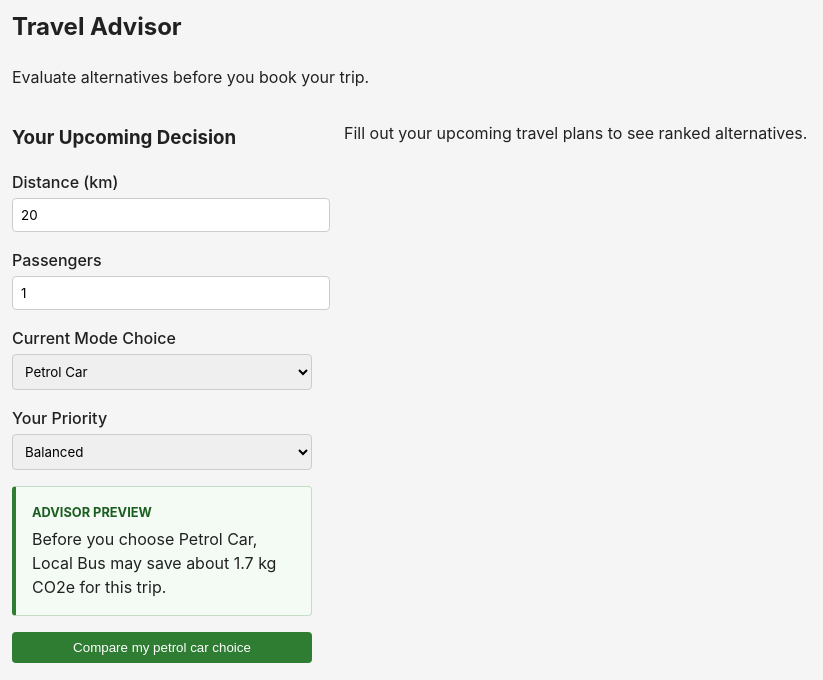
TravelDecisionUI › validates invalid inputs
Step 1. Clear the number field labelled "Distance (km)" → (171, 215), box [12,198,330,232]
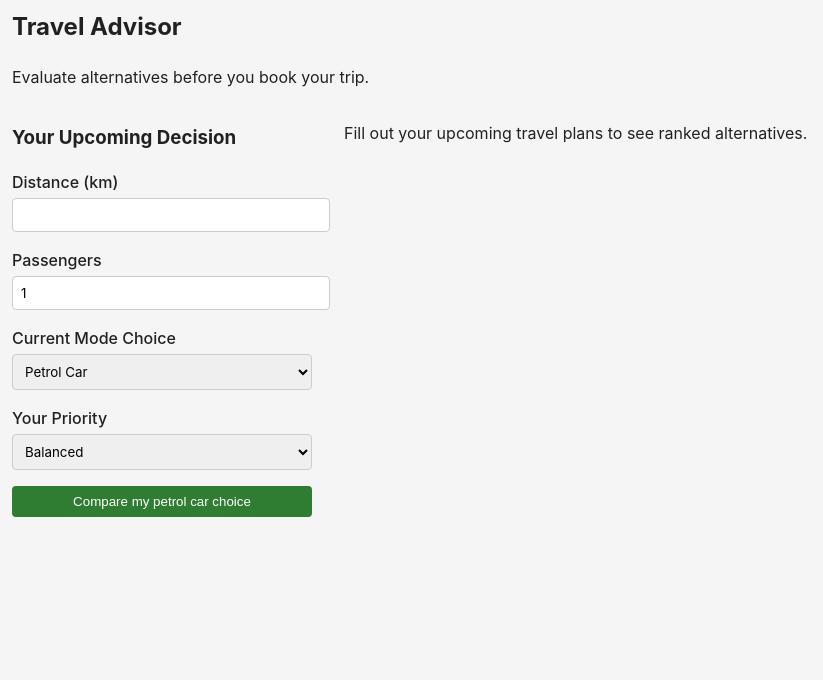
Step 2. Click the button "Compare my petrol car choice" → (162, 502), box [12,486,312,517]
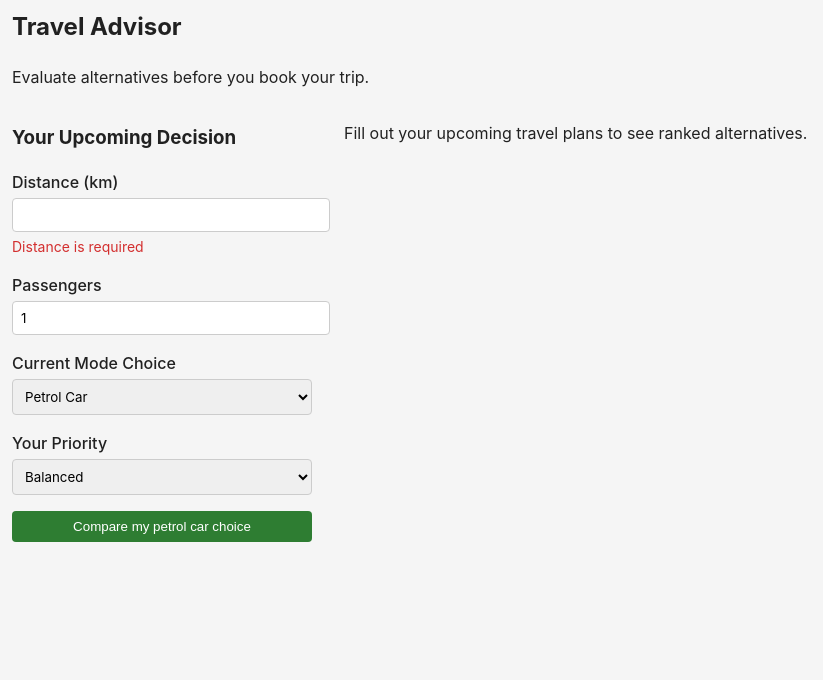
Expected: the text "Distance is required" is shown, [12,238,144,255]
